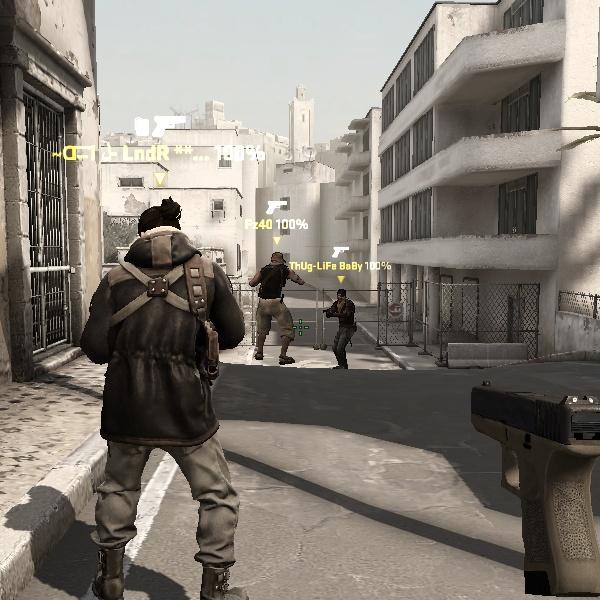t_body: (73, 193, 259, 598), (243, 244, 312, 369), (315, 289, 364, 368)
t_head: (127, 193, 200, 263), (266, 247, 292, 272), (333, 286, 353, 306)
